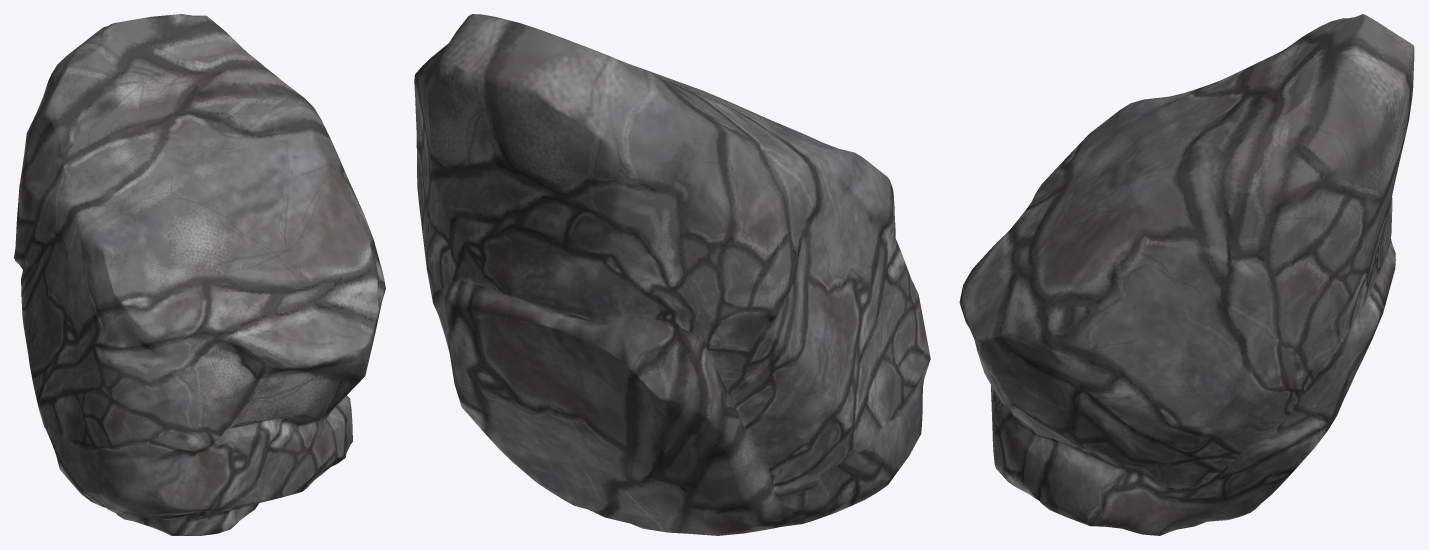
The model's file is Cliff3.fbx.
3 renders of one model, left to right at view 1: azimuth 30°, elevation 25°; view 2: azimuth 150°, elevation 25°; view 3: azimuth 270°, elevation 25°, orthographic. The views are drawn at different scales.
Parts seen in each view (by area): view 1: Cliffstone:Group5509; view 2: Cliffstone:Group5509; view 3: Cliffstone:Group5509.
Part boxes in pixels (bbox=[...]): Cliffstone:Group5509: bbox=[14, 14, 385, 535]; Cliffstone:Group5509: bbox=[414, 14, 930, 535]; Cliffstone:Group5509: bbox=[959, 14, 1414, 535].
Bounding box in the file's own units: 396 × 506 × 434.
